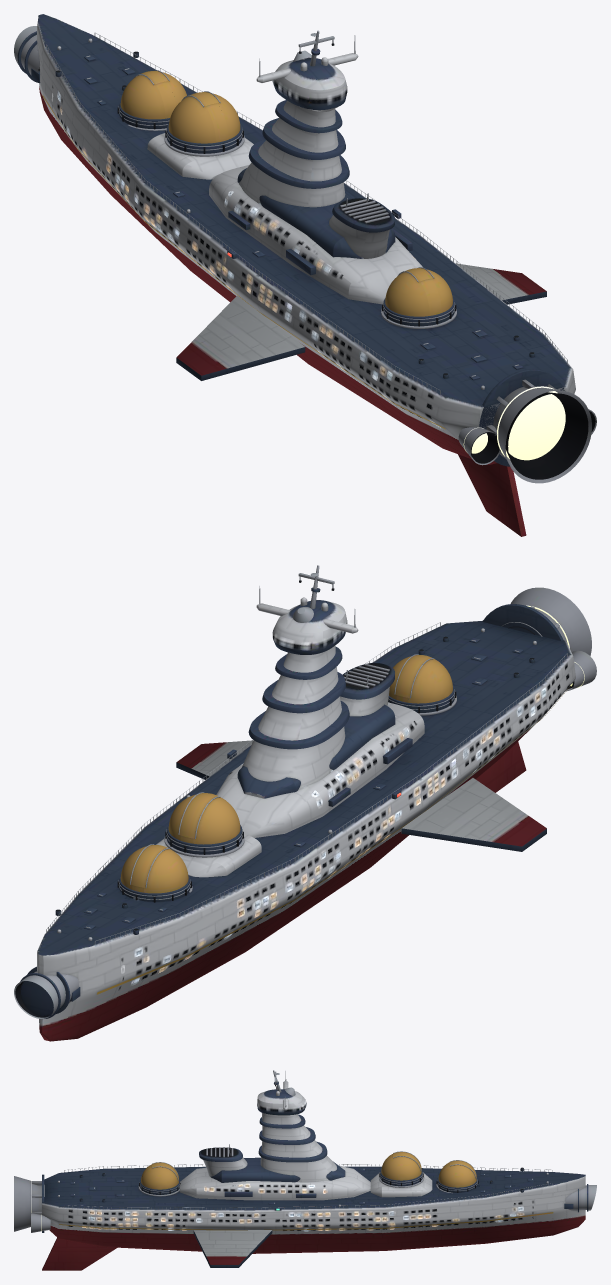
File: ship-amatsu.glb
3 views of the same model, one above another, from view 1: azimuth 30°, elevation 25°; view 2: azimuth 150°, elevation 25°; view 3: azimuth 270°, elevation 25° (orthographic). The views are drawn at different scales.
Parts seen in each view (by area): view 1: Hull, Bridge, Domes, Engine, Stack, Telescope; view 2: Hull, Bridge, Domes, Engine, Telescope, Stack, Slit1, Slit0, Slit2; view 3: Hull, Bridge, Domes, Engine, Stack, Telescope.
Boxes of the visible parts, box(x1,y1,x2,y2) form: Hull: box(37, 14, 575, 536); Bridge: box(209, 30, 422, 304); Domes: box(117, 72, 456, 328); Engine: box(458, 369, 596, 483); Stack: box(329, 193, 394, 258); Telescope: box(14, 26, 40, 82); Hull: box(37, 620, 575, 1041); Bridge: box(216, 565, 424, 837); Domes: box(117, 656, 456, 902); Engine: box(482, 587, 596, 691); Telescope: box(14, 966, 80, 1018); Stack: box(340, 663, 394, 716); Slit1: box(178, 792, 220, 838); Slit0: box(130, 844, 169, 888); Slit2: box(394, 654, 434, 698); Hull: box(42, 1164, 585, 1270); Bridge: box(179, 1070, 370, 1200); Domes: box(138, 1154, 478, 1197); Engine: box(14, 1174, 50, 1232); Stack: box(199, 1144, 247, 1176); Telescope: box(564, 1184, 596, 1212).
Size of the model in its own units: 0.4 by 0.3923 by 1.04.
Materials: 5 (1 with a texture image).
